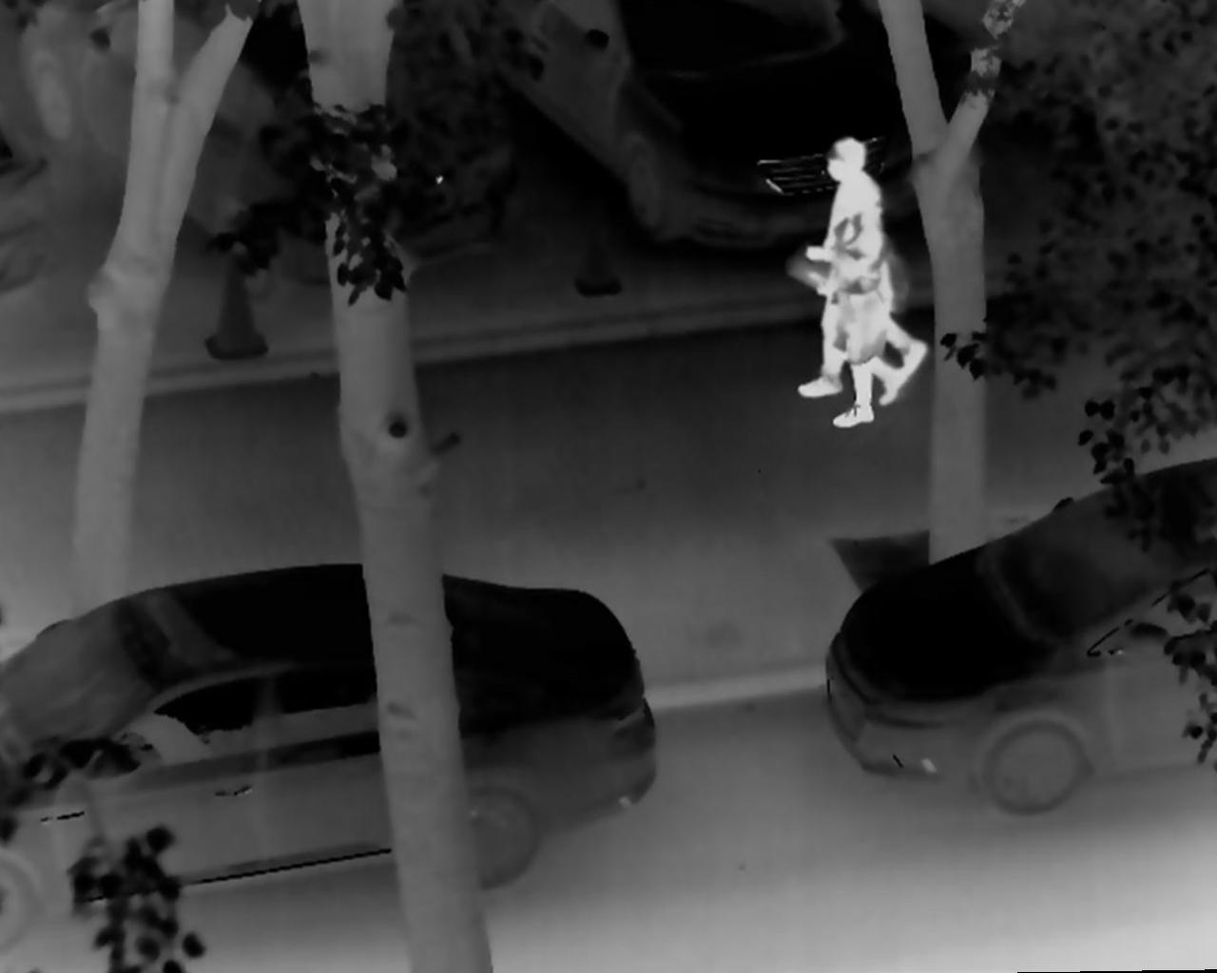person: (792, 138, 929, 400), (802, 187, 911, 429)
